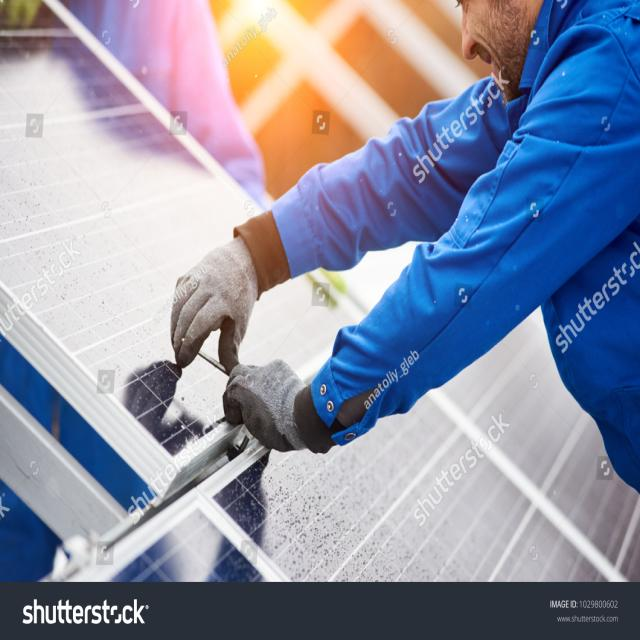clean-solar-panel: (0, 0, 640, 580)
